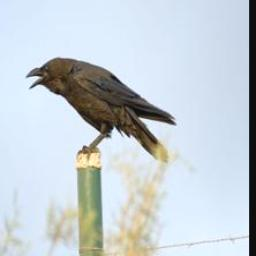Crow: (23, 51, 180, 163)
